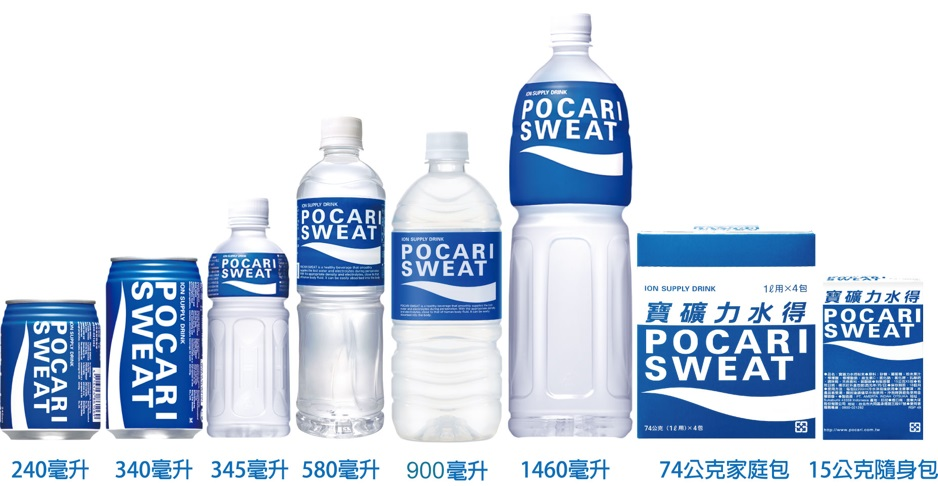POCARI SWEAT: (513, 14, 634, 447), (388, 124, 511, 442), (300, 115, 385, 441), (204, 191, 291, 441)
